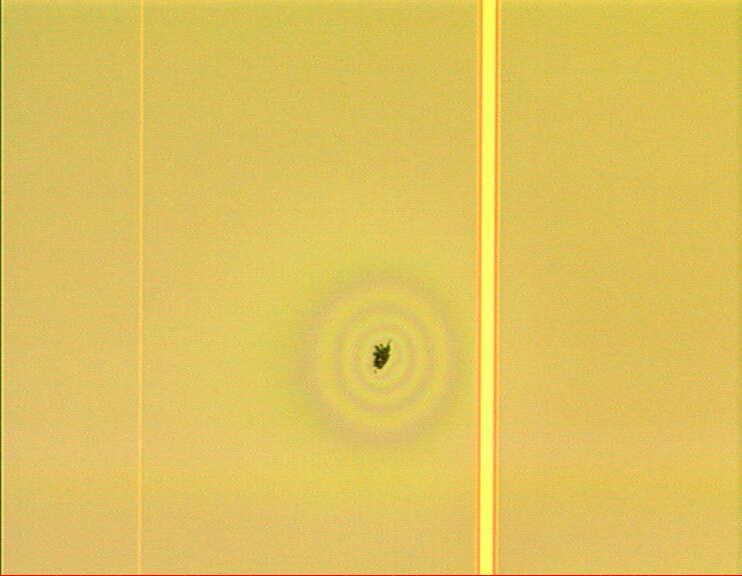PIQ PARTICLE: (363, 337, 403, 377)
